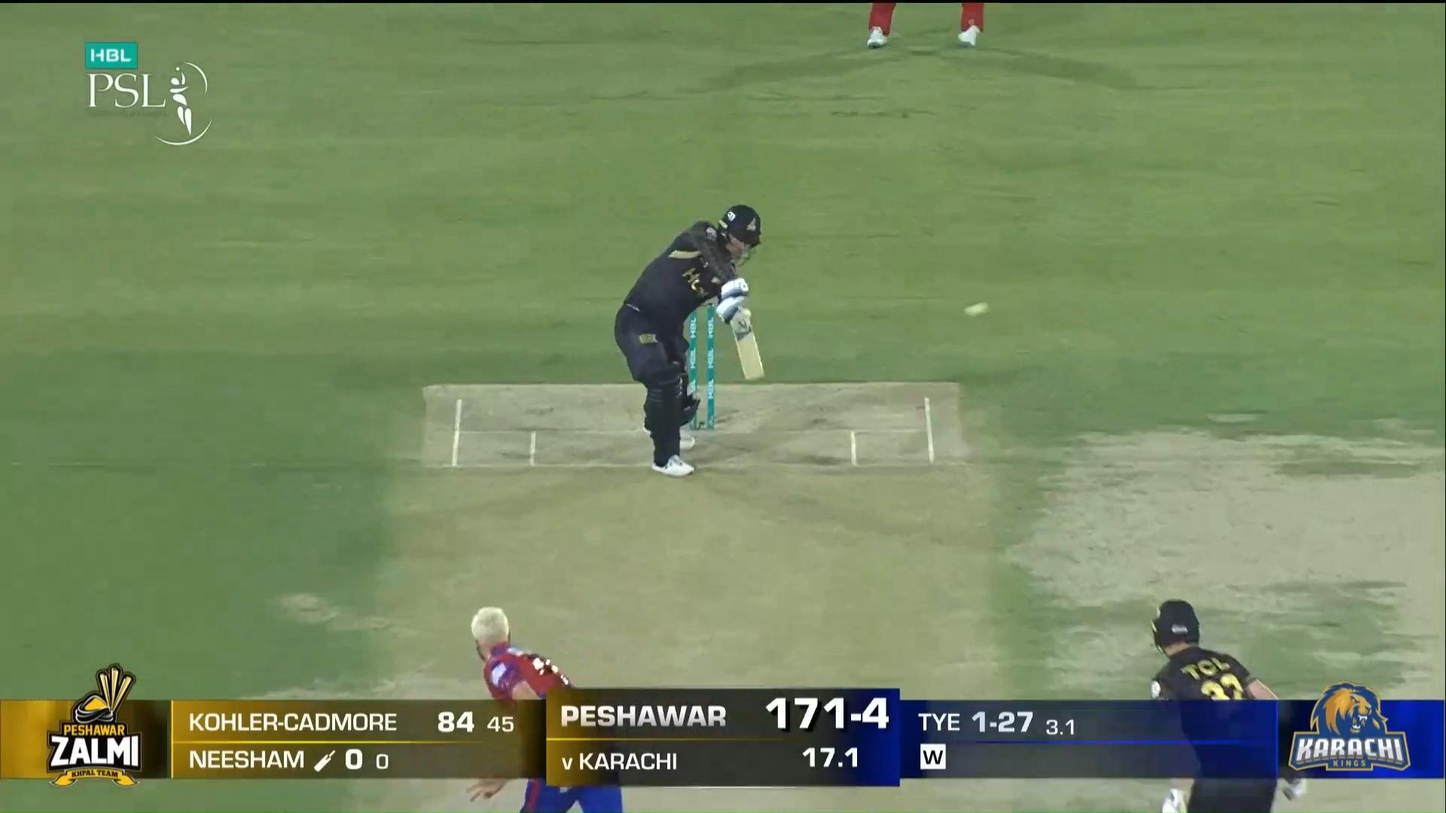batsman: (614, 203, 764, 478)
